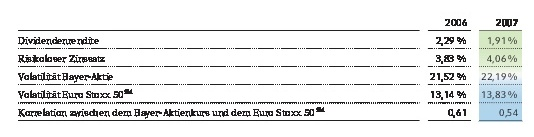table: (0, 0, 534, 137)
